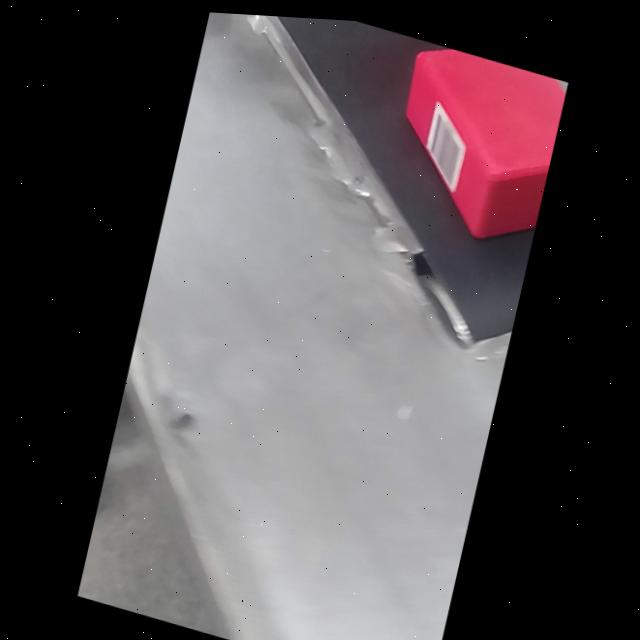redBox: (353, 26, 568, 265)
